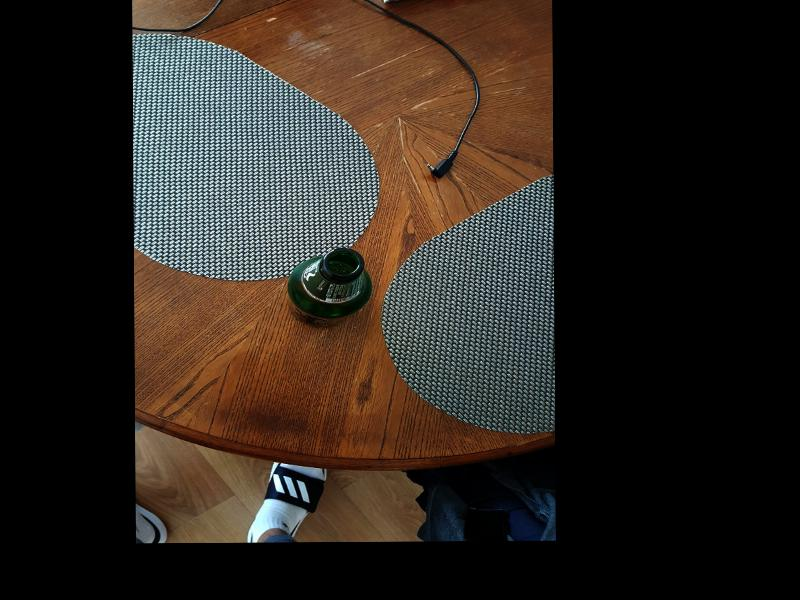Beer: (287, 248, 373, 326)
